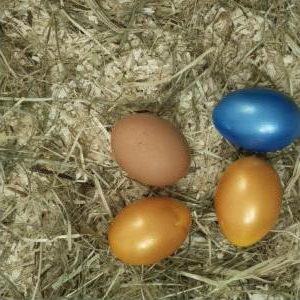egg: (215, 157, 283, 247), (108, 197, 192, 265), (111, 114, 189, 187), (213, 89, 300, 152)
